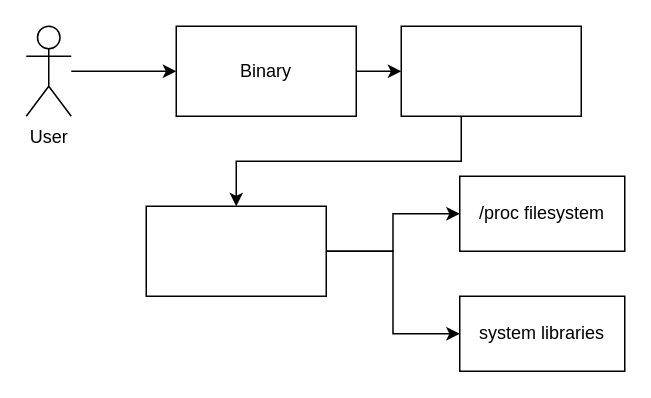
This 651x398 diagram has some shape labels left out. The box of each missing label's shape, as (x1, y1, x2, y2) in pixels:
Analyzer: (145, 205, 326, 296)
Reader: (400, 25, 581, 116)
